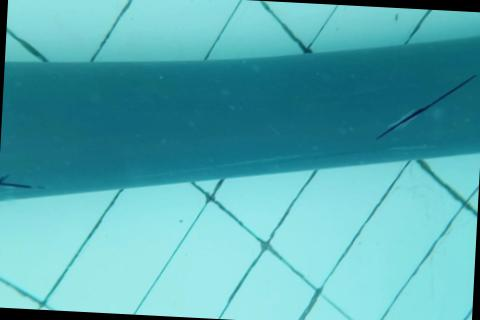keretakan: (374, 67, 478, 148), (0, 172, 38, 208)
